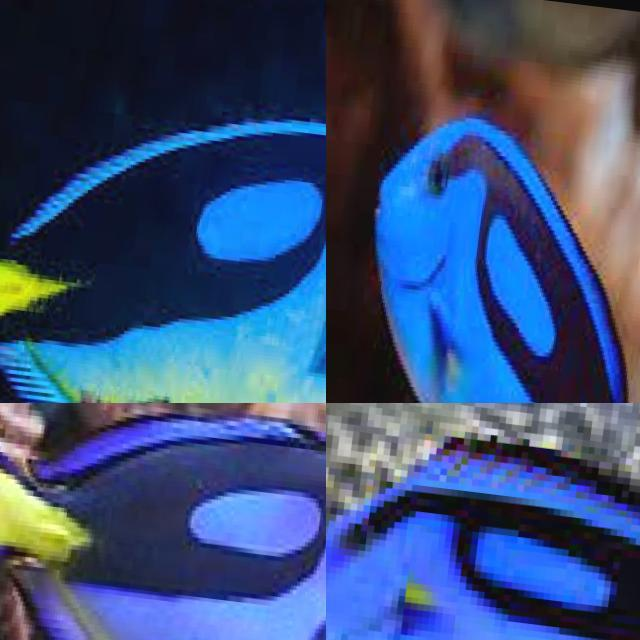BlueTang: (0, 122, 325, 403), (0, 403, 326, 640), (372, 118, 626, 403), (323, 437, 640, 640)
